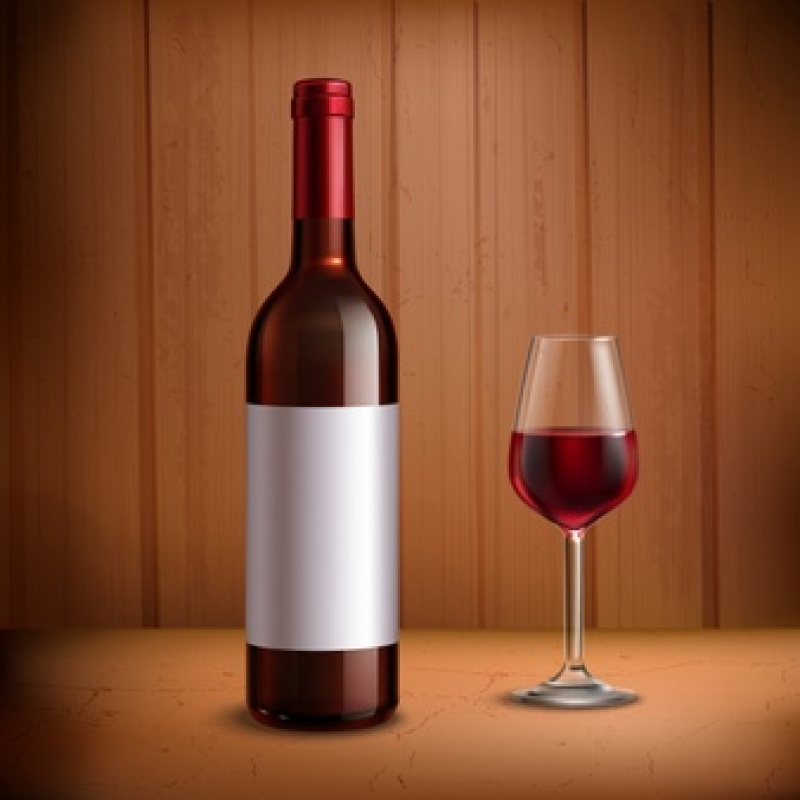wine: (245, 83, 404, 708)
